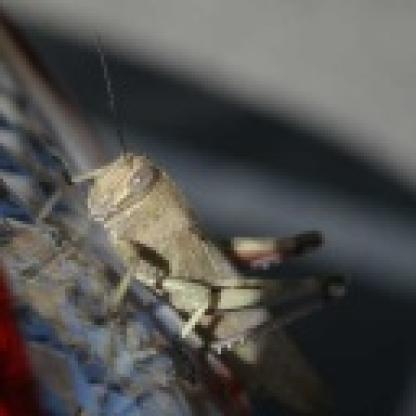grasshopper: (46, 142, 385, 416)
